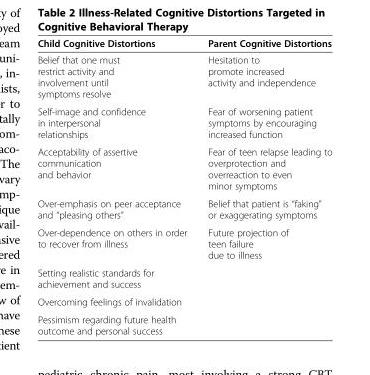table: (36, 37, 331, 335)
table column: (36, 37, 196, 335), (196, 37, 331, 335)
table column header: (36, 37, 331, 51)
table projected row header: (36, 263, 331, 292), (36, 292, 331, 310)
table row: (36, 142, 331, 194), (36, 51, 331, 102), (36, 102, 331, 142), (36, 223, 331, 263), (36, 194, 331, 223), (36, 263, 331, 292), (36, 310, 331, 335), (36, 292, 331, 310), (36, 37, 331, 51)
